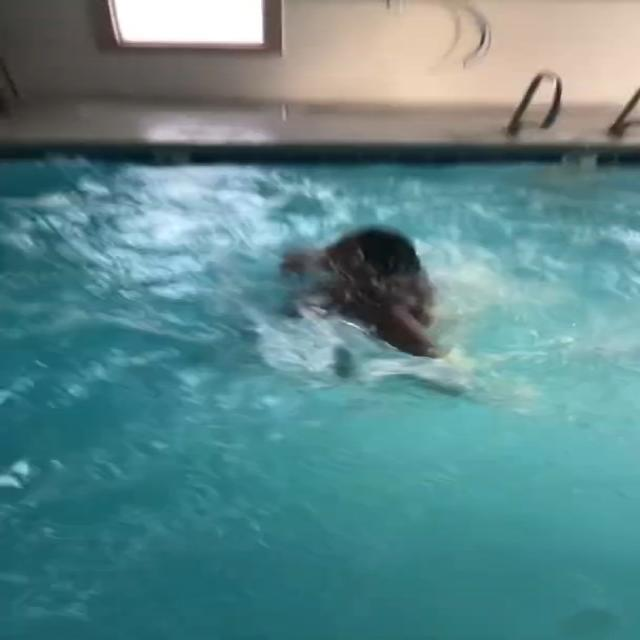Drowning: (276, 222, 471, 401)
